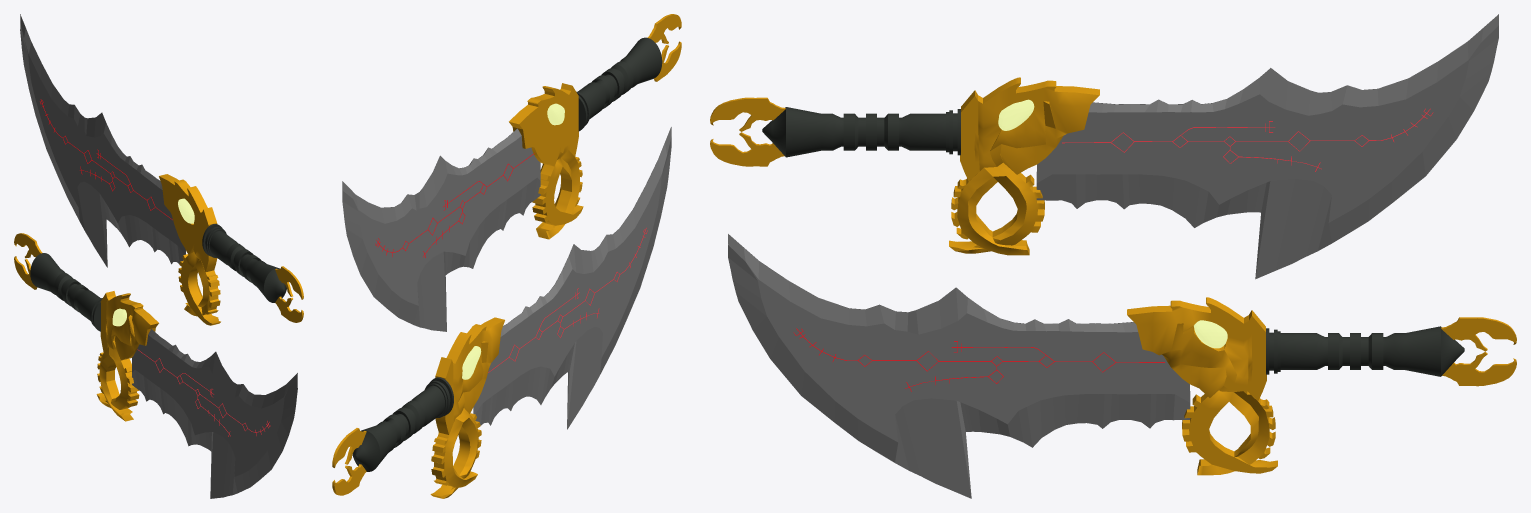
Rendered from blades.glb.
3 views of the same model, side by side, from view 1: azimuth 30°, elevation 25°; view 2: azimuth 150°, elevation 25°; view 3: azimuth 270°, elevation 25° (orthographic). The views are drawn at different scales.
Parts seen in each view (by area): view 1: Blades_1.001, Blades_2, Plane, Plane.001, Handle, Handle.001, Handle_decor, Handle_decor.001, Design, Design2.001; view 2: Blades_2, Blades_1.001, Plane, Plane.001, Handle.001, Handle, Handle_decor.001, Handle_decor, Design2.001, Design, Sphere.001; view 3: Blades_1, Blades_2.001, Plane.001, Plane, Handle, Handle.001, Handle_decor, Handle_decor.001.
Boxes of the visible parts, x1=… form: Blades_1.001: x1=132, y1=329, x2=297, y2=498; Blades_2: x1=20, y1=14, x2=185, y2=267; Plane: x1=159, y1=174, x2=220, y2=325; Plane.001: x1=96, y1=291, x2=158, y2=421; Handle: x1=202, y1=224, x2=286, y2=302; Handle.001: x1=30, y1=253, x2=102, y2=331; Handle_decor: x1=275, y1=266, x2=303, y2=322; Handle_decor.001: x1=14, y1=233, x2=42, y2=289; Design: x1=40, y1=99, x2=172, y2=219; Design2.001: x1=137, y1=349, x2=270, y2=436; Blades_2: x1=342, y1=128, x2=540, y2=331; Blades_1.001: x1=473, y1=127, x2=671, y2=429; Plane: x1=509, y1=83, x2=583, y2=239; Plane.001: x1=430, y1=317, x2=504, y2=498; Handle.001: x1=352, y1=377, x2=453, y2=471; Handle: x1=576, y1=37, x2=662, y2=131; Handle_decor.001: x1=332, y1=428, x2=366, y2=495; Handle_decor: x1=647, y1=14, x2=681, y2=81; Design2.001: x1=488, y1=228, x2=647, y2=372; Design: x1=375, y1=153, x2=534, y2=257; Sphere.001: x1=462, y1=346, x2=481, y2=379; Blades_1: x1=1036, y1=14, x2=1498, y2=279; Blades_2.001: x1=728, y1=234, x2=1190, y2=498; Plane.001: x1=1127, y1=297, x2=1277, y2=475; Plane: x1=949, y1=77, x2=1099, y2=255; Handle: x1=762, y1=107, x2=960, y2=157; Handle.001: x1=1266, y1=326, x2=1464, y2=376; Handle_decor: x1=710, y1=97, x2=785, y2=166; Handle_decor.001: x1=1441, y1=317, x2=1516, y2=386.
Bounding box in the file's own units: 0.232 × 3.08 × 4.65.
